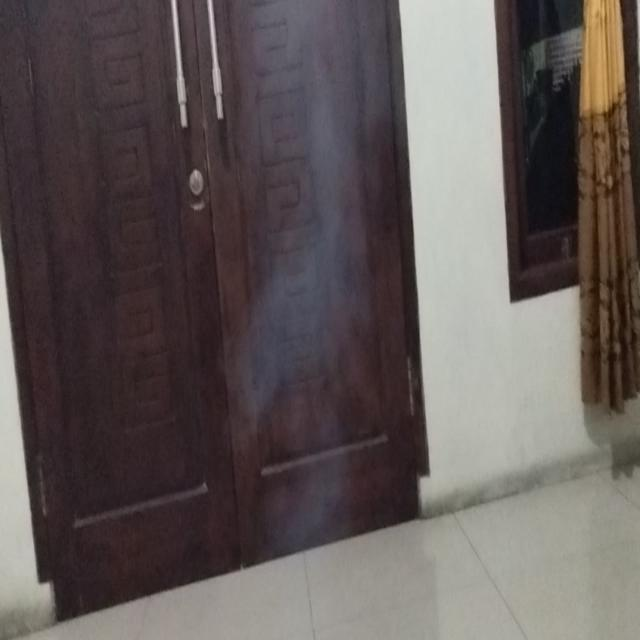fire: (246, 0, 356, 389), (260, 425, 354, 640)
